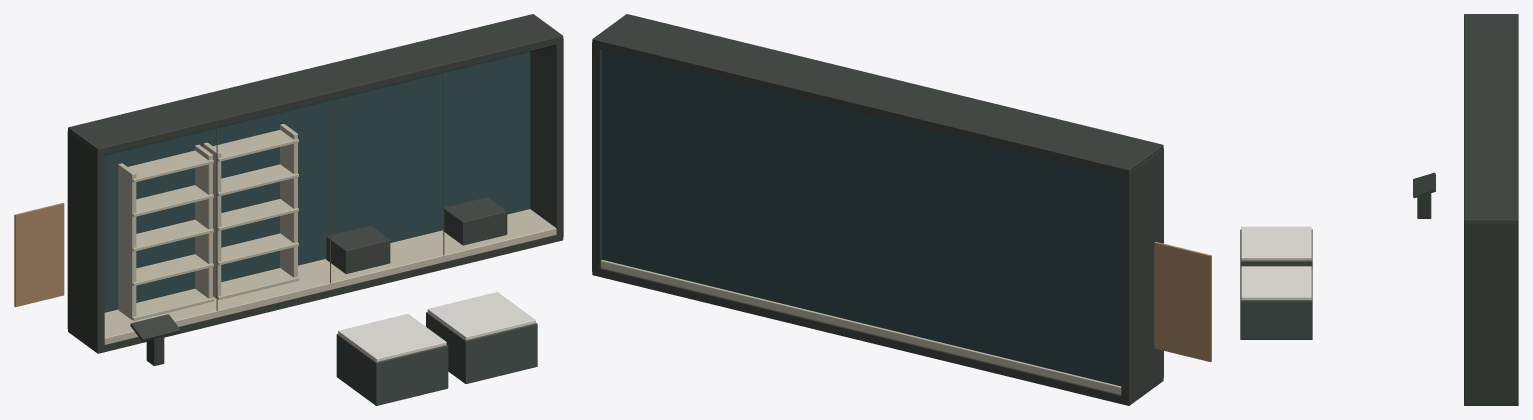
Rendered from gallery-fixtures-v3.glb.
3 renders of one model, left to right at view 1: azimuth 30°, elevation 25°; view 2: azimuth 150°, elevation 25°; view 3: azimuth 270°, elevation 25°, orthographic. The views are drawn at different scales.
Visible parts, largest first — view 1: Continuous blue exhibit recess, Showcase head and foot (×2), Showcase outer frame (×2), Pottery shelf with rounded edge (×10), Patinated showcase plinth (×2), Case warm timber platform, Pale upright shelf (×4), Pale exhibit platform (×2), Individual gray exhibit riser (×2), Orange information panel, Sloped gallery reading desk, Reading desk pedestal; view 2: Continuous blue exhibit recess, Showcase head and foot (×2), Showcase outer frame (×2), Orange information panel, Case warm timber platform; view 3: Showcase head and foot, Showcase outer frame, Pale exhibit platform (×2), Patinated showcase plinth (×2), Sloped gallery reading desk, Reading desk pedestal.
Boxes of the visible parts, box(x1,y1,x2,y2) form: Continuous blue exhibit recess: box(104, 51, 530, 312); Showcase head and foot (×2): box(68, 14, 563, 353); Showcase outer frame (×2): box(67, 39, 563, 350); Pottery shelf with rounded edge (×10): box(128, 130, 298, 320); Patinated showcase plinth (×2): box(336, 312, 537, 405); Case warm timber platform: box(104, 209, 556, 344); Pale upright shelf (×4): box(118, 124, 297, 319); Pale exhibit platform (×2): box(338, 292, 535, 361); Individual gray exhibit riser (×2): box(326, 197, 507, 273); Orange information panel: box(14, 203, 64, 307); Sloped gallery reading desk: box(130, 314, 180, 341); Reading desk pedestal: box(146, 336, 164, 365); Continuous blue exhibit recess: box(602, 50, 1121, 386); Showcase head and foot (×2): box(592, 14, 1163, 405); Showcase outer frame (×2): box(592, 42, 1163, 402); Orange information panel: box(1154, 241, 1211, 362); Case warm timber platform: box(601, 260, 1121, 394); Showcase head and foot: box(1464, 14, 1518, 222); Showcase outer frame: box(1464, 222, 1518, 403); Pale exhibit platform (×2): box(1241, 226, 1311, 300); Patinated showcase plinth (×2): box(1240, 230, 1312, 339); Sloped gallery reading desk: box(1413, 172, 1435, 198); Reading desk pedestal: box(1417, 193, 1431, 218).
Size of the model in its own units: 9.92 by 3.7 by 4.99.
